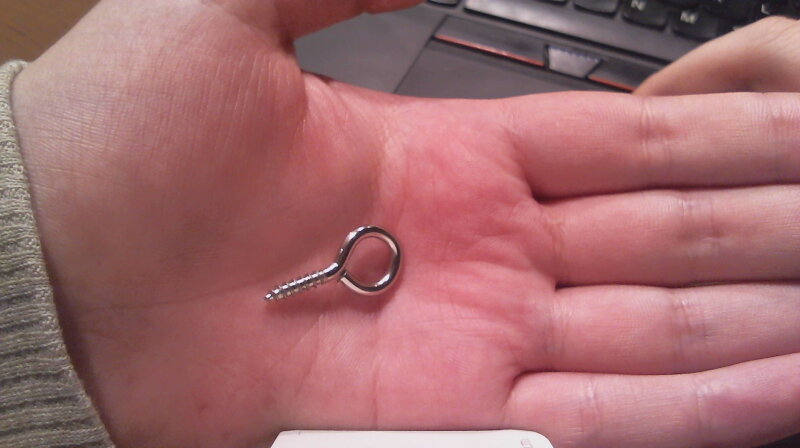O001: (258, 221, 404, 309)
